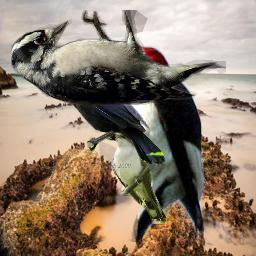Crow: (51, 68, 166, 165)
Cuckoo: (106, 128, 166, 224)
Woodpecker: (90, 45, 207, 242), (11, 10, 226, 105)
